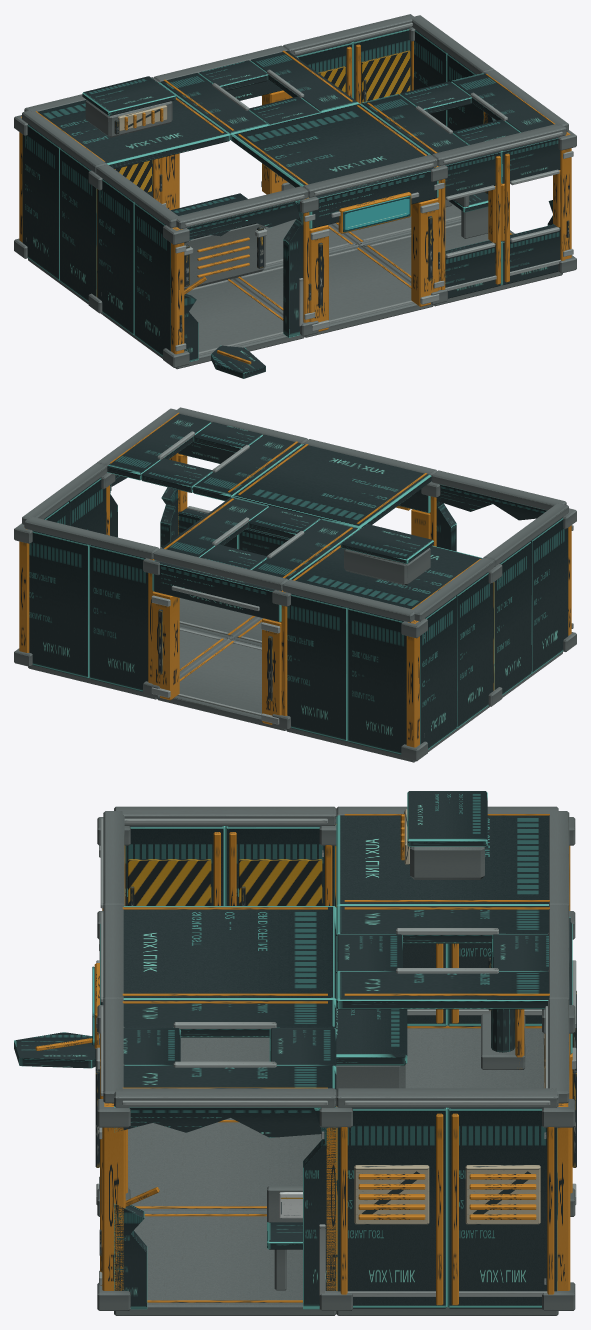
Rendered from CargoDepot_Ruined_LOD1.obj.
3 renders of one model, top to bottom at view 1: azimuth 30°, elevation 25°; view 2: azimuth 150°, elevation 25°; view 3: azimuth 270°, elevation 25°, orthographic. The views are drawn at different scales.
Parts seen in each view (by area): view 1: 004_roof_4m.001, 006_roof_skylight_4m.001, 008_roof_skylight_4m.001, 023_doorframe_4m.001, 003_floor_4m.001, 026_wall_window_2m.001, 002_roof_4m.001, 025_wall_window_2m.001, 000_floor_4m.001, 029_wall_solid_2m.001, 032_wall_vent_2m.001, 020_wall_breach_4m.001 (+31 smaller); view 2: 004_roof_4m.001, 037_doorframe_4m.001, 008_roof_skylight_4m.001, 040_wall_solid_2m.001, 035_wall_solid_2m.001, 006_roof_skylight_4m.001, 034_wall_solid_2m.001, 039_wall_solid_2m.001, 005_floor_4m.001, 031_wall_vent_2m.001, 028_wall_solid_2m.001, 002_roof_4m.001 (+30 smaller); view 3: 044_wall_vent_2m.001, 045_wall_vent_2m.001, 004_roof_4m.001, 006_roof_skylight_4m.001, 008_roof_skylight_4m.001, 007_floor_4m.001, 002_roof_4m.001, 003_floor_4m.001, 042_wall_breach_4m.001, 029_wall_solid_2m.001, 028_wall_solid_2m.001, 048_hvac_unit.001 (+24 smaller).
Boxes of the visible parts, <box> form: 004_roof_4m.001: <box>231,103,429,187</box>; 006_roof_skylight_4m.001: <box>159,50,358,140</box>; 008_roof_skylight_4m.001: <box>361,73,554,155</box>; 023_doorframe_4m.001: <box>309,167,439,331</box>; 003_floor_4m.001: <box>232,246,433,337</box>; 026_wall_window_2m.001: <box>501,137,565,285</box>; 002_roof_4m.001: <box>36,82,230,169</box>; 025_wall_window_2m.001: <box>441,151,501,298</box>; 000_floor_4m.001: <box>102,279,304,369</box>; 029_wall_solid_2m.001: <box>97,178,134,335</box>; 032_wall_vent_2m.001: <box>22,124,60,280</box>; 020_wall_breach_4m.001: <box>176,200,303,361</box>; 004_roof_4m.001: <box>232,444,431,528</box>; 037_doorframe_4m.001: <box>151,560,281,724</box>; 008_roof_skylight_4m.001: <box>107,412,302,500</box>; 040_wall_solid_2m.001: <box>29,530,89,678</box>; 035_wall_solid_2m.001: <box>287,593,347,741</box>; 006_roof_skylight_4m.001: <box>161,496,358,579</box>; 034_wall_solid_2m.001: <box>347,607,406,754</box>; 039_wall_solid_2m.001: <box>89,544,148,691</box>; 005_floor_4m.001: <box>157,639,286,730</box>; 031_wall_vent_2m.001: <box>456,572,493,728</box>; 028_wall_solid_2m.001: <box>530,517,568,674</box>; 002_roof_4m.001: <box>290,528,482,609</box>; 044_wall_vent_2m.001: <box>337,1107,447,1308</box>; 045_wall_vent_2m.001: <box>447,1107,557,1308</box>; 004_roof_4m.001: <box>122,906,336,1001</box>; 006_roof_skylight_4m.001: <box>336,906,549,1009</box>; 008_roof_skylight_4m.001: <box>122,1000,336,1089</box>; 007_floor_4m.001: <box>114,1212,336,1315</box>; 002_roof_4m.001: <box>336,814,549,907</box>; 003_floor_4m.001: <box>128,1118,321,1212</box>; 042_wall_breach_4m.001: <box>114,1106,336,1309</box>; 029_wall_solid_2m.001: <box>225,826,334,905</box>; 028_wall_solid_2m.001: <box>124,826,225,905</box>; 048_hvac_unit.001: <box>400,791,487,879</box>.
Bounding box in the file's own units: 12.62 × 5.3 × 10.13.
1 material, 1 textured.
